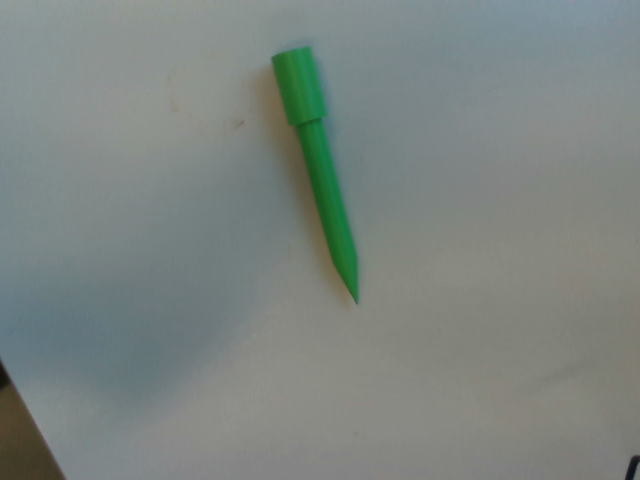Probe: (265, 40, 368, 314)
